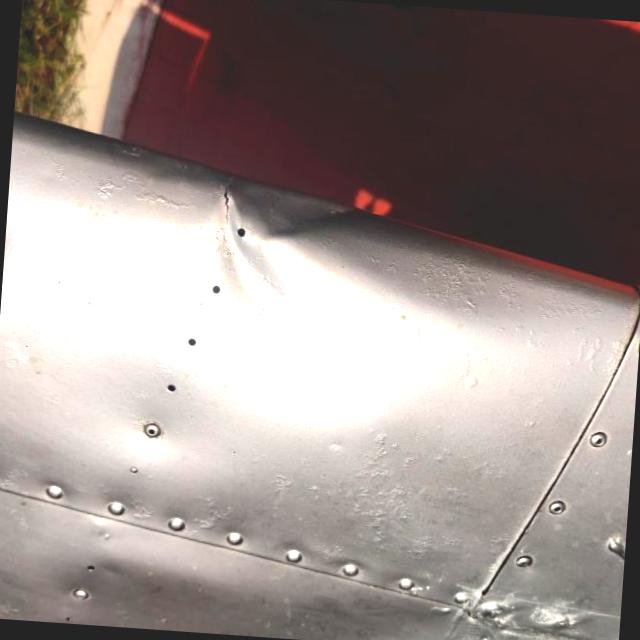crack: (212, 166, 250, 226)
dent: (171, 164, 414, 418)
